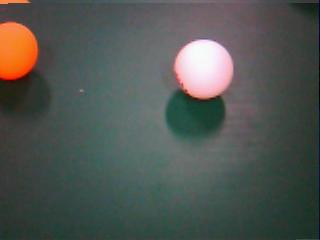oball: (0, 22, 38, 79)
